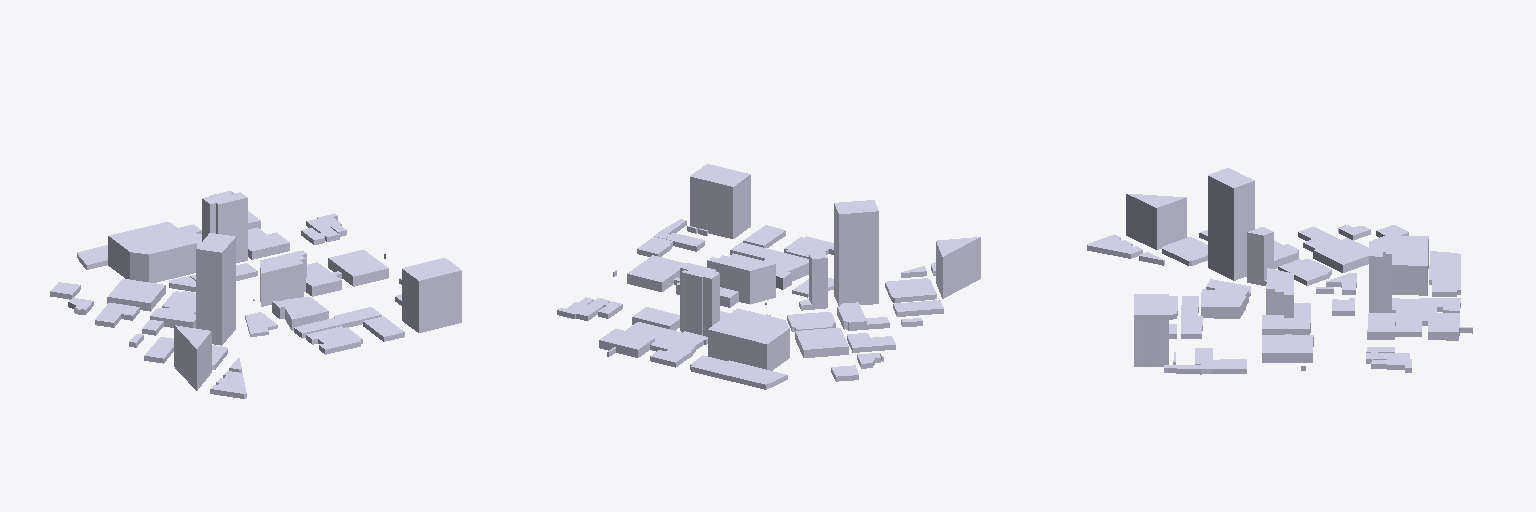
File: tile-buildings(-84.390000,33.755000,-84.385000,33.760000).osm.obj.postprocessed.obj
3 renders of one model, left to right at view 1: azimuth 30°, elevation 25°; view 2: azimuth 150°, elevation 25°; view 3: azimuth 270°, elevation 25°, orthographic.
Visible parts, largest first — view 1: Building_Rich's_Inc, Building_Equitable_Building, Building_AT&T_Communications_Building, Building_Ritz-Carlton_Hotel_Downtown_Atlanta, Building_Georgia-Pacific_Tower, Building_Healey_Building, Building16, Building21, Building_College_of_Law, Building27, Building_Enclosed_Garage, Building15 (+8 smaller); view 2: Building_Equitable_Building, Building_AT&T_Communications_Building, Building_Rich's_Inc, Building_Ritz-Carlton_Hotel_Downtown_Atlanta, Building_Georgia-Pacific_Tower, Building_Healey_Building, Building_Westin_Peachtree_Plaza, Building16, Building21, Building_191_Peachtree_Tower, Building_Residence_Inn_Atlanta_Downtown, Building_International_Garage (+9 smaller); view 3: Building_Equitable_Building, Building_Healey_Building, Building_AT&T_Communications_Building, Building_Rich's_Inc, Building_Ritz-Carlton_Hotel_Downtown_Atlanta, Building16, Building_Westin_Peachtree_Plaza, Building_Residence_Inn_Atlanta_Downtown, Building21, Building_College_of_Law, Building_Georgia-Pacific_Tower, Building_191_Peachtree_Tower (+8 smaller).
Boxes of the visible parts, box(x1,y1,x2,y2) form: Building_Rich's_Inc: box(108, 222, 196, 282); Building_Equitable_Building: box(196, 233, 235, 345); Building_AT&T_Communications_Building: box(402, 258, 461, 332); Building_Ritz-Carlton_Hotel_Downtown_Atlanta: box(202, 191, 247, 262); Building_Georgia-Pacific_Tower: box(260, 250, 306, 306); Building_Healey_Building: box(174, 325, 211, 390); Building16: box(328, 250, 388, 286); Building21: box(107, 279, 165, 311); Building_College_of_Law: box(272, 297, 328, 330); Building27: box(306, 326, 362, 354); Building_Enclosed_Garage: box(294, 307, 381, 338); Building15: box(301, 213, 346, 244); Building_Equitable_Building: box(834, 200, 878, 305); Building_AT&T_Communications_Building: box(690, 164, 750, 238); Building_Rich's_Inc: box(708, 308, 789, 370); Building_Ritz-Carlton_Hotel_Downtown_Atlanta: box(680, 263, 719, 336); Building_Georgia-Pacific_Tower: box(707, 253, 775, 304); Building_Healey_Building: box(936, 237, 980, 298); Building_Westin_Peachtree_Plaza: box(690, 355, 787, 389); Building16: box(627, 255, 685, 291); Building21: box(795, 328, 848, 357); Building_191_Peachtree_Tower: box(626, 322, 707, 353); Building_Residence_Inn_Atlanta_Downtown: box(809, 249, 827, 309); Building_International_Garage: box(599, 329, 654, 357); Building_Equitable_Building: box(1208, 168, 1254, 280); Building_Healey_Building: box(1126, 194, 1186, 249); Building_AT&T_Communications_Building: box(1134, 294, 1168, 366); Building_Rich's_Inc: box(1370, 236, 1428, 295); Building_Ritz-Carlton_Hotel_Downtown_Atlanta: box(1369, 239, 1391, 312); Building16: box(1262, 335, 1313, 362); Building_Westin_Peachtree_Plaza: box(1429, 251, 1460, 296); Building_Residence_Inn_Atlanta_Downtown: box(1247, 227, 1273, 285); Building21: box(1313, 238, 1368, 272); Building_College_of_Law: box(1201, 289, 1248, 318); Building_Georgia-Pacific_Tower: box(1266, 268, 1293, 317); Building_191_Peachtree_Tower: box(1392, 298, 1427, 336).
Bounding box in the file's own units: 463 × 139 × 520.